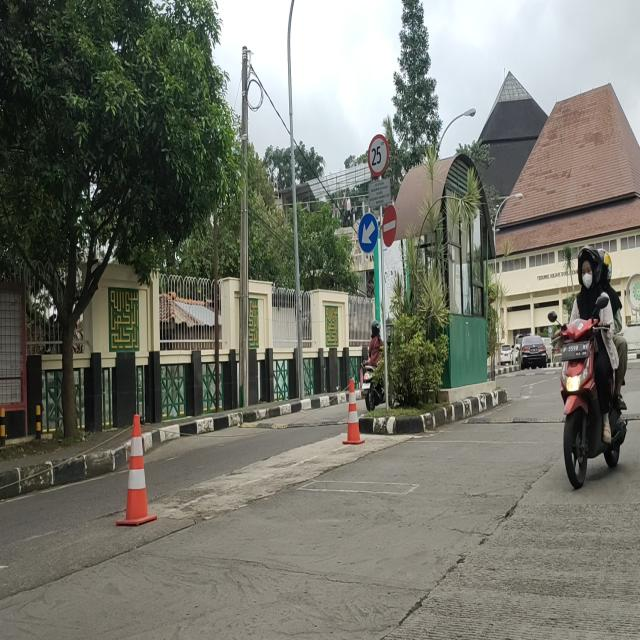helmet: (576, 248, 600, 292), (602, 247, 612, 281)
